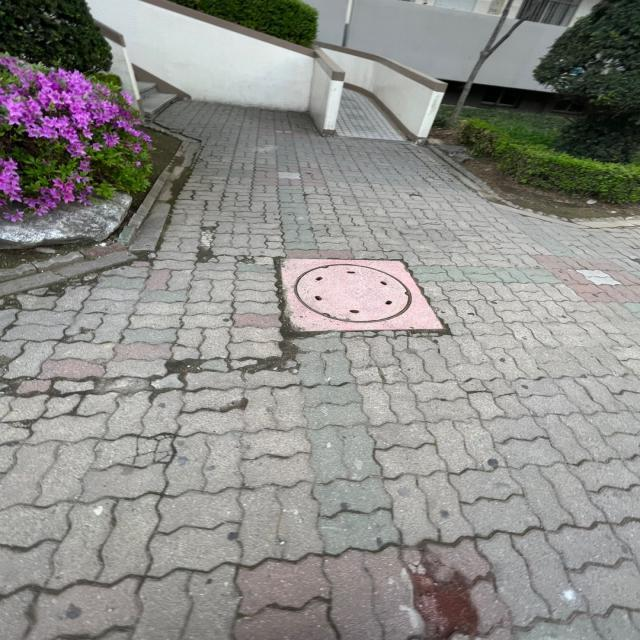Sewer Cover: (252, 247, 447, 350)
